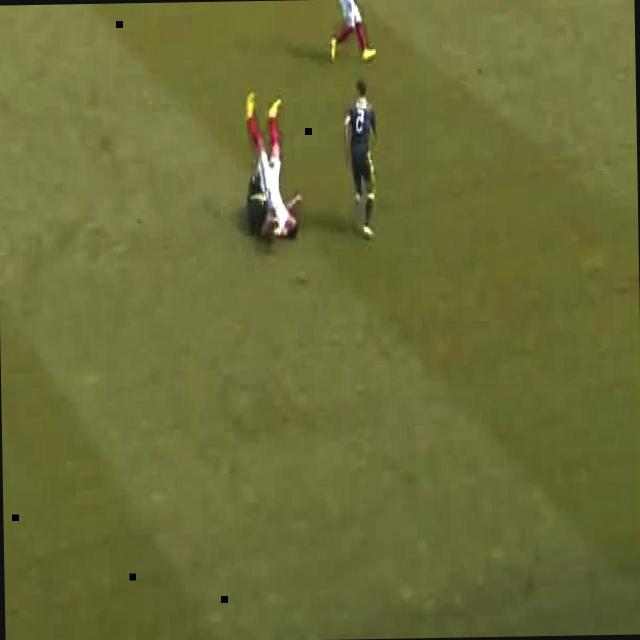player-white: (245, 91, 303, 238), (343, 78, 379, 238), (330, 0, 377, 62), (244, 163, 278, 242)
